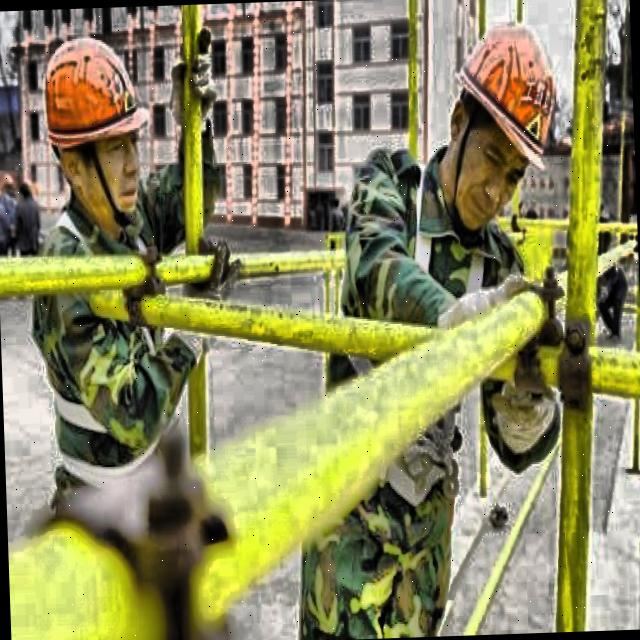helmet: (418, 0, 573, 244), (27, 13, 164, 238)
